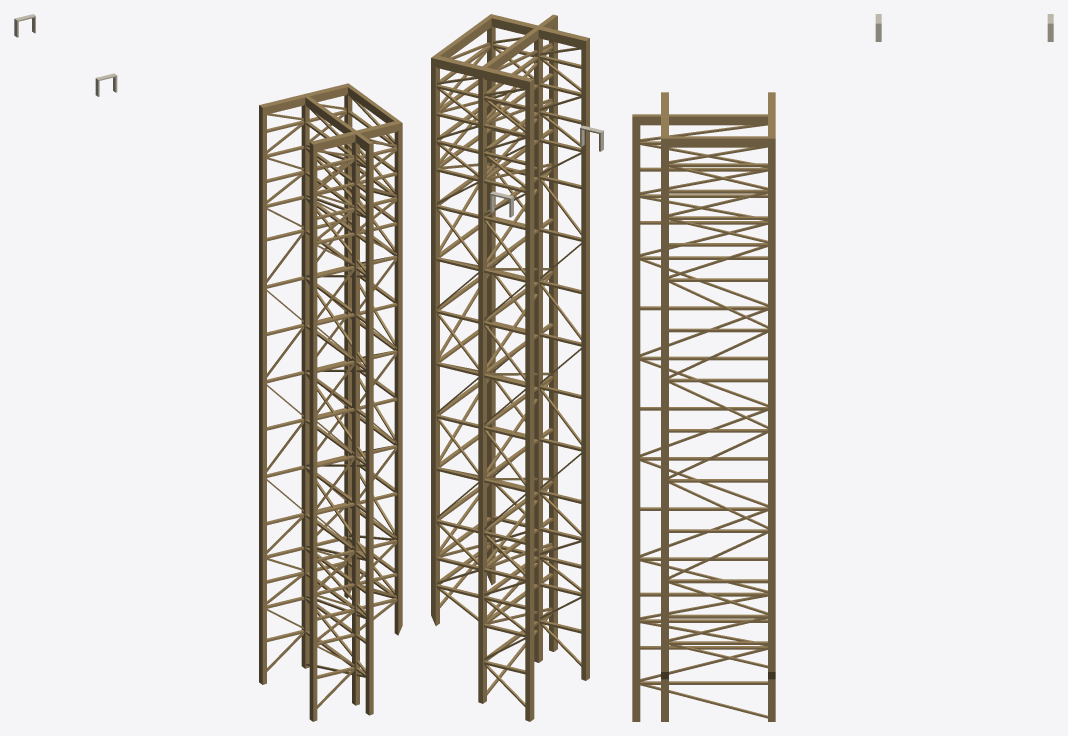
File: AST-RES-005.glb
3 views of the same model, side by side, from view 1: azimuth 30°, elevation 25°; view 2: azimuth 150°, elevation 25°; view 3: azimuth 270°, elevation 25° (orthographic). The views are drawn at different scales.
Parts seen in each view (by area): view 1: D17_InterfaceBatch_Aft_champagne_metal, D17_InterfaceBatch_Fore_champagne_metal, D17_InterfaceBatch_D17_RoyaltyTransfer_champagne_metal; view 2: D17_InterfaceBatch_Aft_champagne_metal, D17_InterfaceBatch_Fore_champagne_metal, D17_InterfaceBatch_D17_RoyaltyTransfer_champagne_metal, D17_InterfaceBatch_D17_RoyaltyOuterLongTransfer_champagne_me, D17_InterfaceBatch_D17_RoyaltyTransverseTransfer_champagne_m, D17_InterfaceBatch_D17_RoyaltyWebRail_09_champagne_metal, D17_InterfaceBatch_D17_RoyaltyWebRail_05_champagne_metal, D17_InterfaceBatch_D17_RoyaltyWebRail_07_champagne_metal, D17_InterfaceBatch_D17_RoyaltyWebRail_04_champagne_metal, D17_InterfaceBatch_D17_RoyaltyWebRail_08_champagne_metal, D17_InterfaceBatch_D17_RoyaltyWebRail_06_champagne_metal; view 3: D17_InterfaceBatch_Aft_champagne_metal, D17_InterfaceBatch_Fore_champagne_metal, D17_InterfaceBatch_D17_RoyaltyTransfer_champagne_metal, D17_InterfaceBatch_D17_RoyaltyOuterLongTransfer_champagne_me.
Boxes of the visible parts, x1=… form: D17_InterfaceBatch_Aft_champagne_metal: x1=309, y1=120, x2=402, y2=713; D17_InterfaceBatch_Fore_champagne_metal: x1=18, y1=17, x2=352, y2=676; D17_InterfaceBatch_D17_RoyaltyTransfer_champagne_metal: x1=302, y1=93, x2=373, y2=150; D17_InterfaceBatch_Aft_champagne_metal: x1=487, y1=14, x2=599, y2=671; D17_InterfaceBatch_Fore_champagne_metal: x1=431, y1=55, x2=534, y2=712; D17_InterfaceBatch_D17_RoyaltyTransfer_champagne_metal: x1=478, y1=14, x2=557, y2=77; D17_InterfaceBatch_D17_RoyaltyOuterLongTransfer_champagne_me: x1=435, y1=17, x2=491, y2=57; D17_InterfaceBatch_D17_RoyaltyTransverseTransfer_champagne_m: x1=483, y1=67, x2=534, y2=89; D17_InterfaceBatch_D17_RoyaltyWebRail_09_champagne_metal: x1=487, y1=218, x2=553, y2=268; D17_InterfaceBatch_D17_RoyaltyWebRail_05_champagne_metal: x1=487, y1=428, x2=553, y2=478; D17_InterfaceBatch_D17_RoyaltyWebRail_07_champagne_metal: x1=487, y1=323, x2=553, y2=373; D17_InterfaceBatch_D17_RoyaltyWebRail_04_champagne_metal: x1=487, y1=480, x2=553, y2=531; D17_InterfaceBatch_D17_RoyaltyWebRail_08_champagne_metal: x1=487, y1=271, x2=553, y2=321; D17_InterfaceBatch_D17_RoyaltyWebRail_06_champagne_metal: x1=487, y1=376, x2=553, y2=426; D17_InterfaceBatch_Aft_champagne_metal: x1=632, y1=92, x2=668, y2=719; D17_InterfaceBatch_Fore_champagne_metal: x1=768, y1=116, x2=775, y2=719; D17_InterfaceBatch_D17_RoyaltyTransfer_champagne_metal: x1=632, y1=114, x2=775, y2=123; D17_InterfaceBatch_D17_RoyaltyOuterLongTransfer_champagne_me: x1=669, y1=136, x2=767, y2=145.
Size of the model in its own units: 38.18 by 107 by 64.65.
2 materials, 2 textured.
